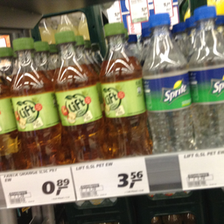soda: (142, 12, 193, 153), (98, 22, 150, 156), (10, 37, 63, 167), (52, 30, 103, 163), (188, 6, 224, 148)
